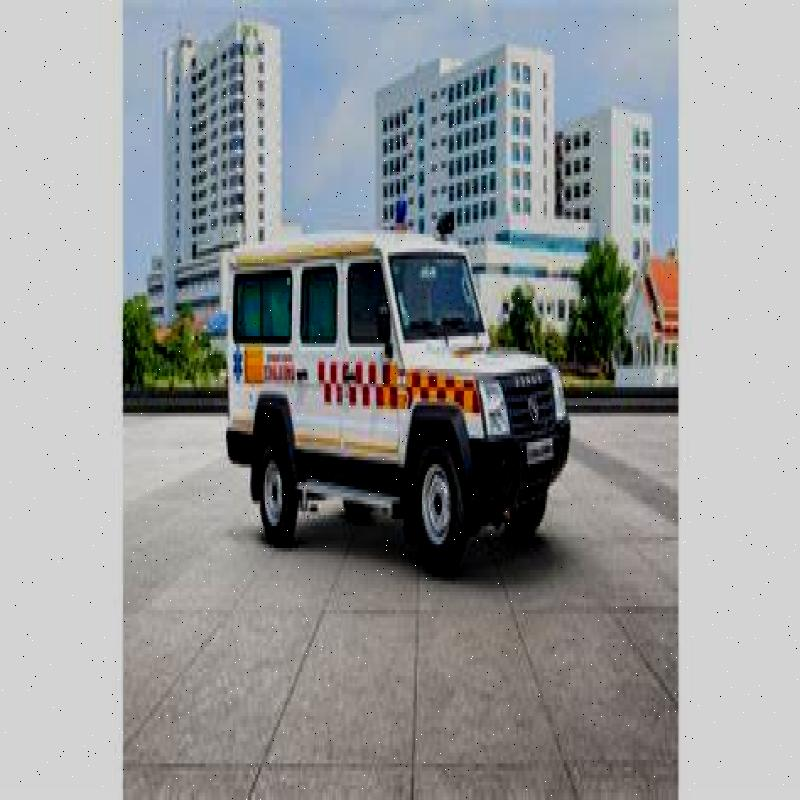AmbulanceSiren: (391, 190, 412, 246)
